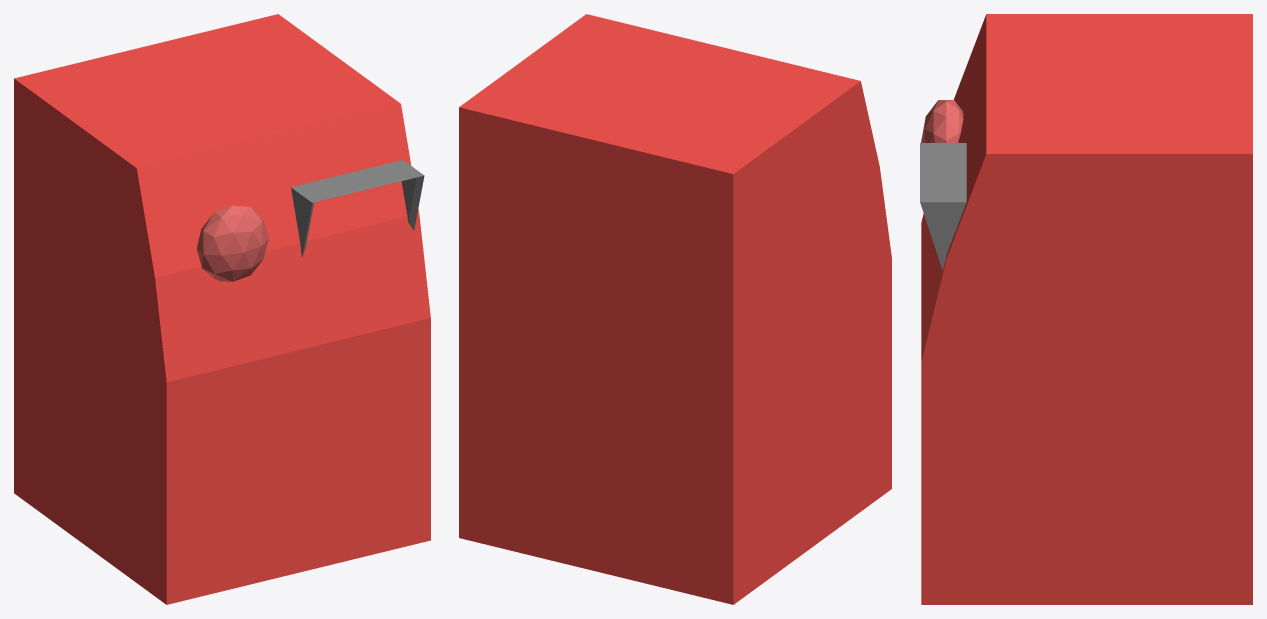
The model's file is barrier_box.fbx.
The picture shows the model from 3 angles, left to right: view 1: azimuth 30°, elevation 25°; view 2: azimuth 150°, elevation 25°; view 3: azimuth 270°, elevation 25°; orthographic projection. The views are drawn at different scales.
Visible parts, largest first — view 1: Plane; view 2: Plane; view 3: Plane.
Part boxes in pixels (x1,y1,x2,y2): Plane: (14, 14, 430, 604); Plane: (459, 14, 891, 604); Plane: (920, 14, 1252, 604).
Size of the model in its own units: 283 by 424 by 284.
